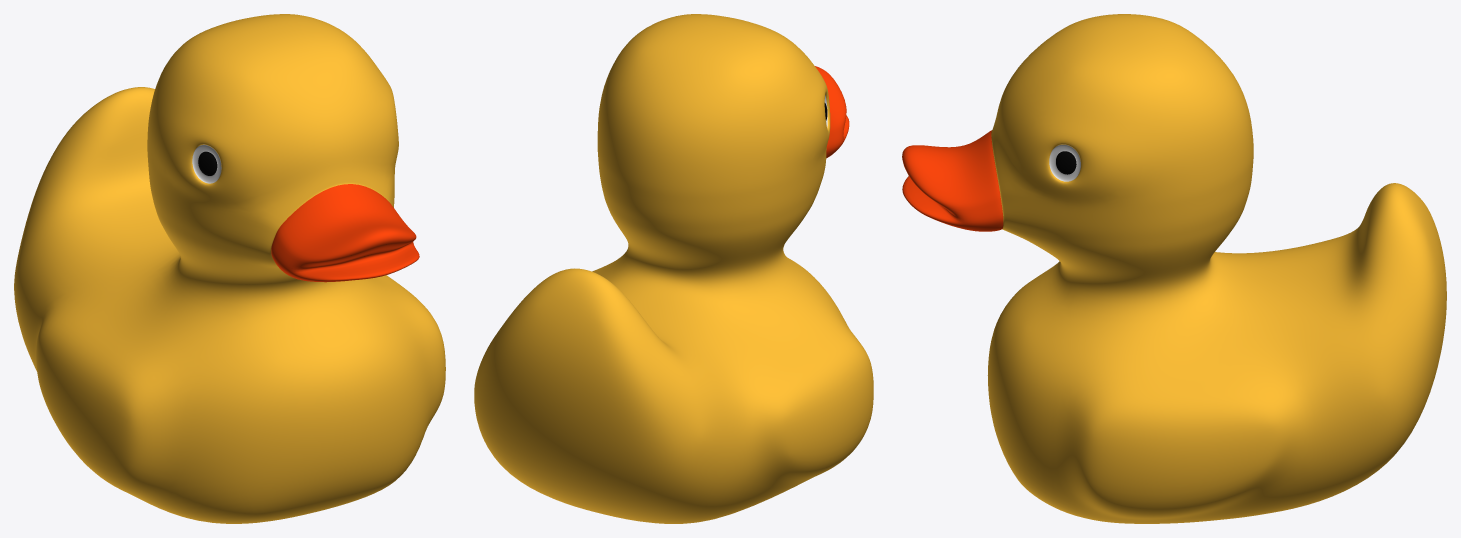
File: duck.glb
3 views of the same model, side by side, from view 1: azimuth 30°, elevation 25°; view 2: azimuth 150°, elevation 25°; view 3: azimuth 270°, elevation 25° (orthographic). The views are drawn at different scales.
Parts seen in each view (by area): view 1: Rubber Duck; view 2: Rubber Duck; view 3: Rubber Duck.
Part boxes in pixels (left/top/right/bottom): Rubber Duck: left=14, top=14, right=445, bottom=523; Rubber Duck: left=474, top=14, right=873, bottom=523; Rubber Duck: left=902, top=14, right=1446, bottom=523.
Size of the model in its own units: 0.2369 by 0.3083 by 0.3365.
